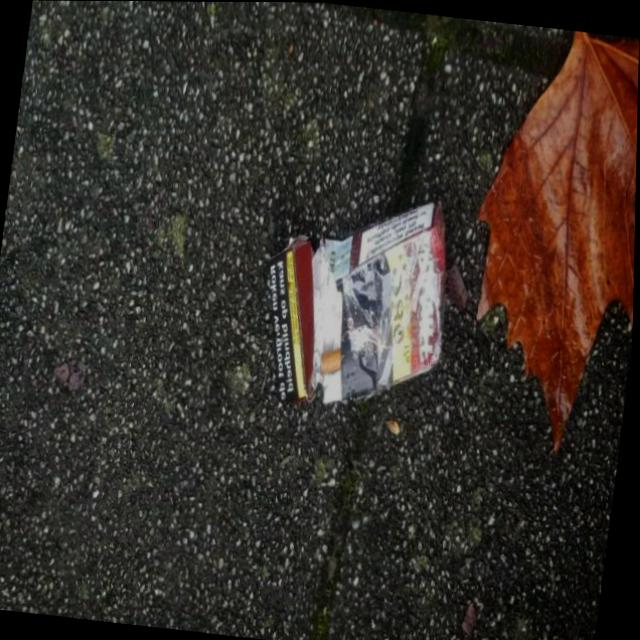Paper: (248, 171, 466, 424)
